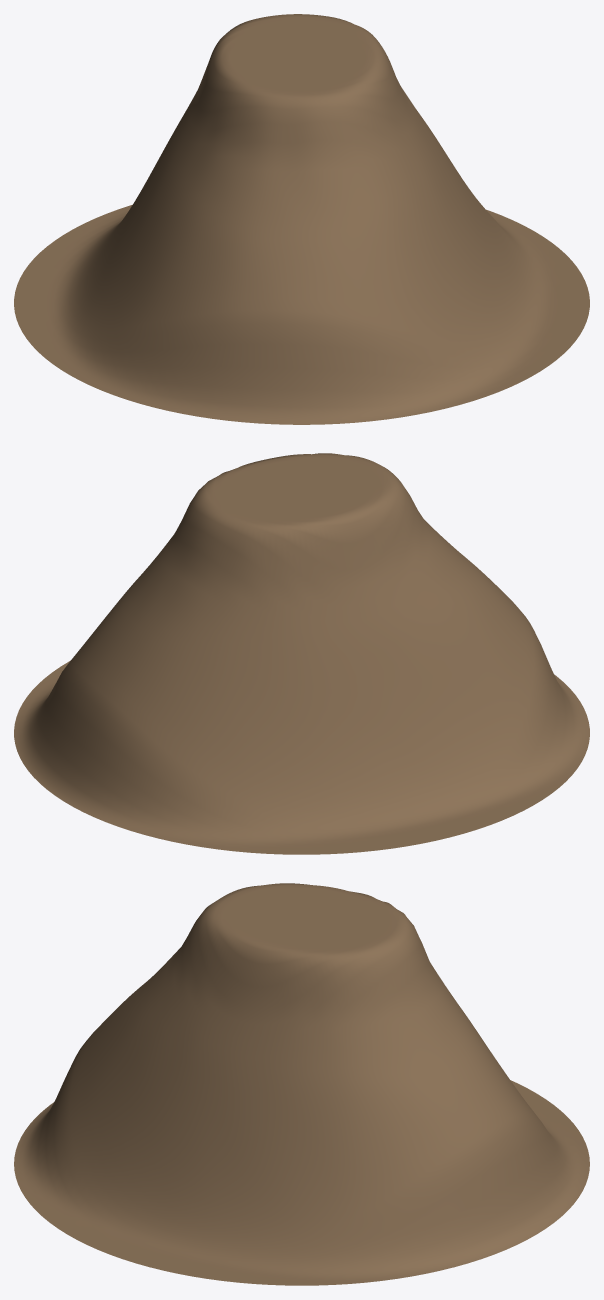
Rendered from hill-v4.4.glb.
3 views of the same model, one above another, from view 1: azimuth 30°, elevation 25°; view 2: azimuth 150°, elevation 25°; view 3: azimuth 270°, elevation 25° (orthographic).
Visible parts, largest first — view 1: hill_v4_4; view 2: hill_v4_4; view 3: hill_v4_4.
Boxes of the visible parts, <box> form: hill_v4_4: <box>14,14,589,424</box>; hill_v4_4: <box>14,453,589,854</box>; hill_v4_4: <box>14,883,589,1285</box>.
Size of the model in its own units: 2 by 0.94 by 2.
